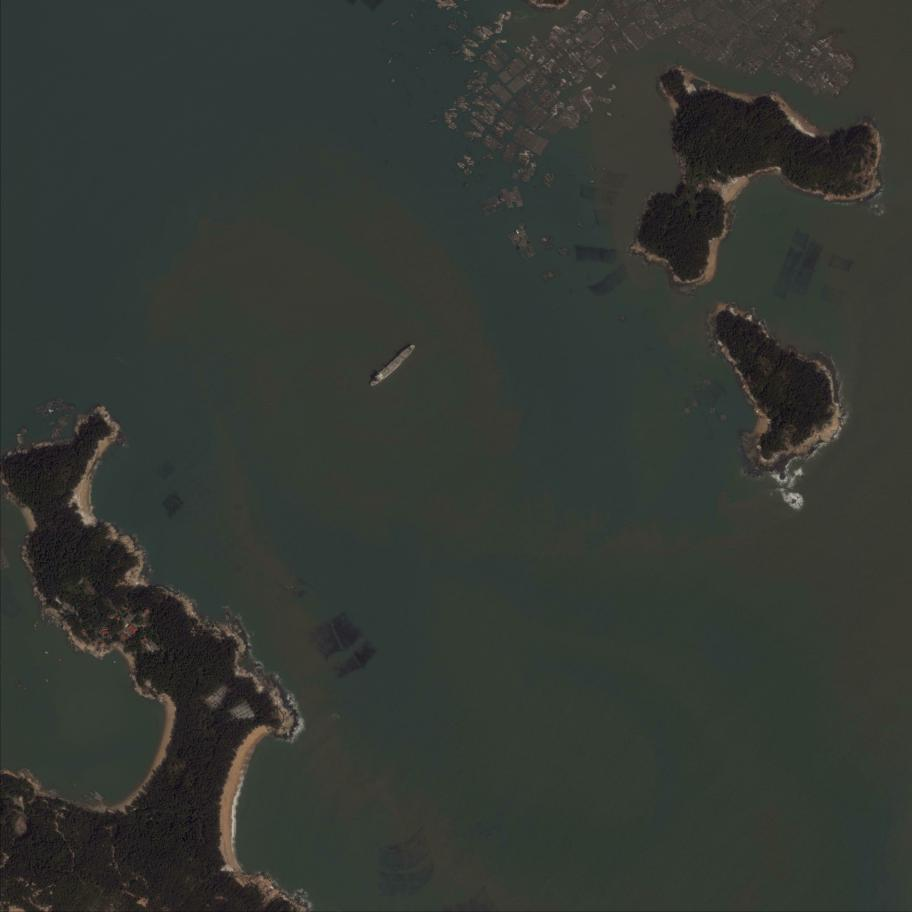ship: (367, 342, 417, 389)
